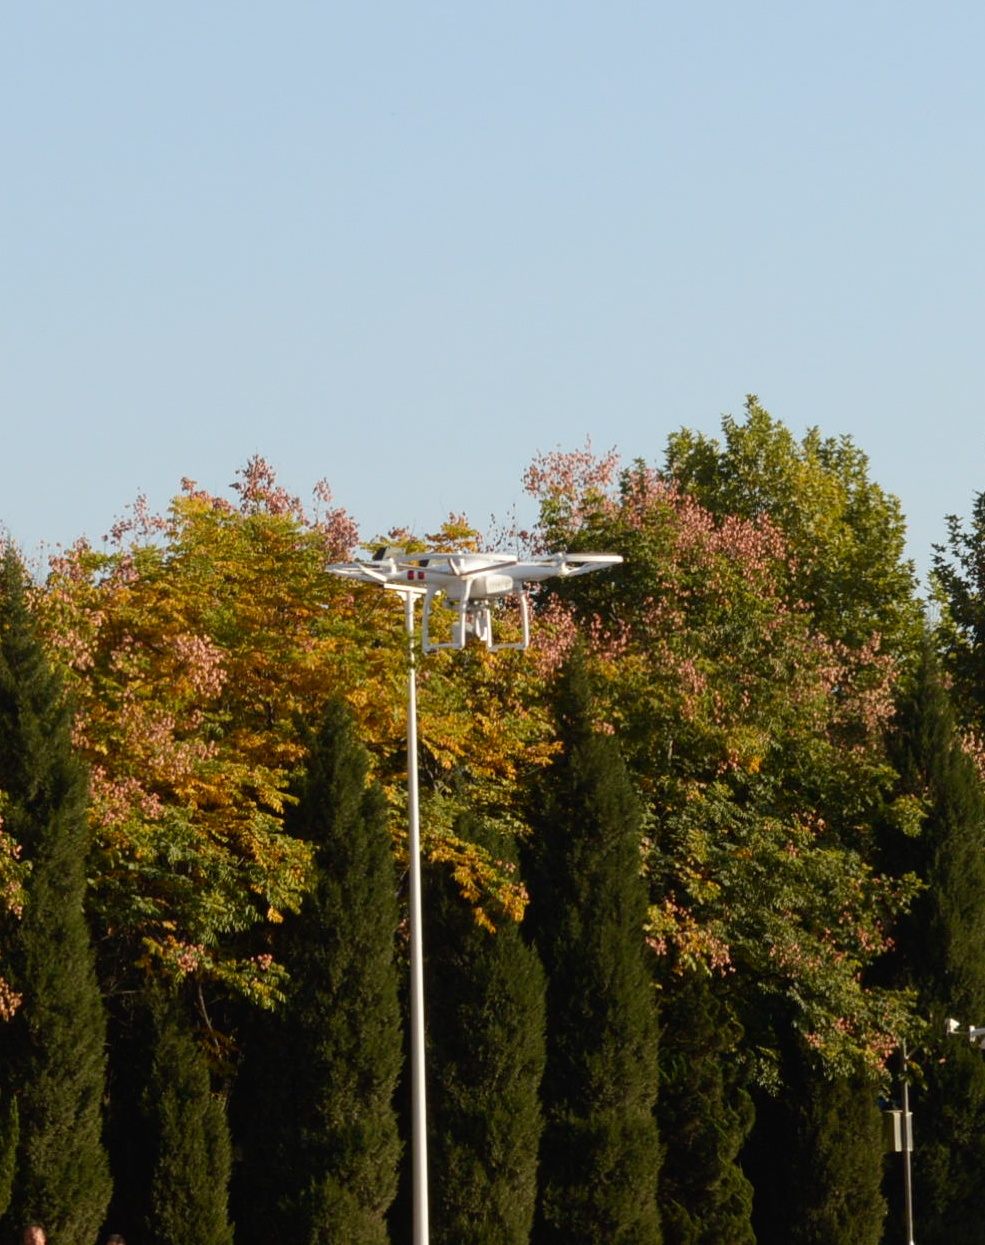DJI: (323, 544, 623, 652)
